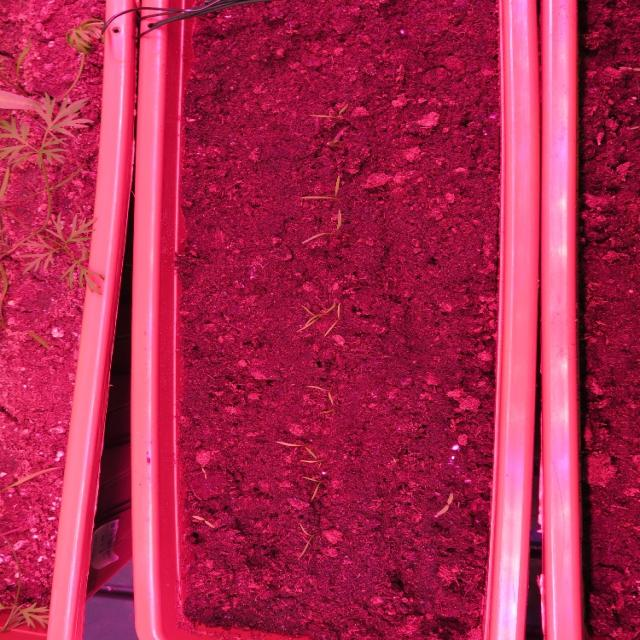crop: (299, 208, 342, 246), (298, 172, 338, 200), (306, 98, 348, 118), (273, 439, 317, 458), (294, 518, 312, 560), (304, 382, 334, 406), (300, 474, 322, 502)
weed: (433, 489, 453, 518), (190, 513, 215, 530), (200, 465, 207, 481)
